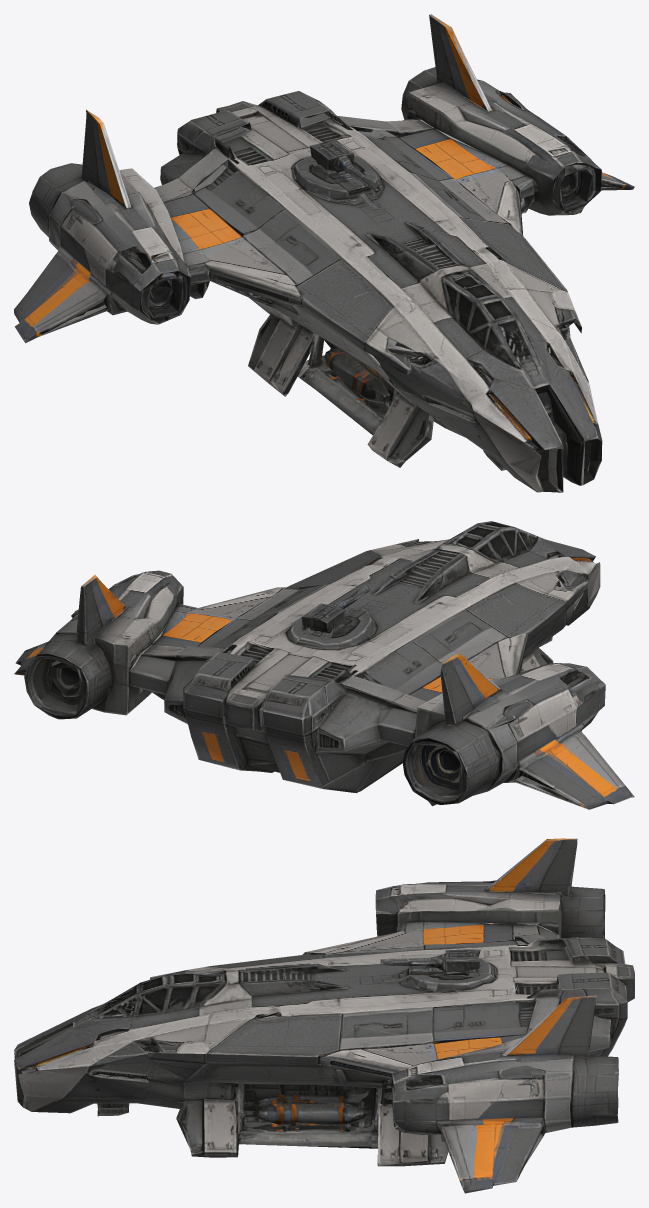
File: bomber-high.glb
3 renders of one model, top to bottom at view 1: azimuth 30°, elevation 25°; view 2: azimuth 150°, elevation 25°; view 3: azimuth 270°, elevation 25°, orthographic. The views are drawn at different scales.
Visible parts, largest first — view 1: Low; view 2: Low; view 3: Low.
Boxes of the visible parts, x1,y1,x2,y2 form: Low: (14,14,634,492); Low: (14,521,634,809); Low: (14,838,634,1193).
Bounding box in the file's own units: 1.68 × 0.5864 × 1.61.
Materials: 1 (1 with a texture image).
